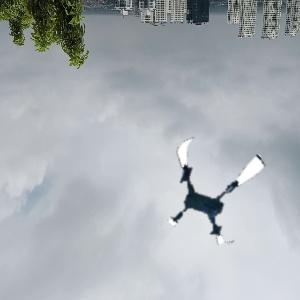drone: (159, 133, 270, 244)
